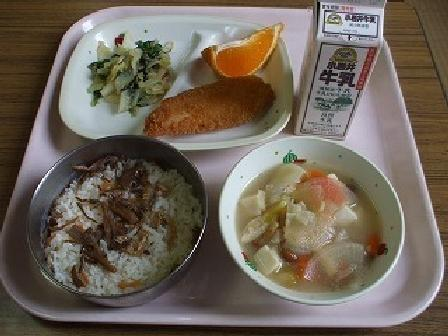Citrus: (198, 13, 287, 77)
Milk: (292, 0, 397, 138)
Mixed rice: (26, 135, 207, 302)
Salad: (84, 30, 168, 105)
Soups: (226, 145, 399, 293)
cutlet: (150, 80, 272, 139)
